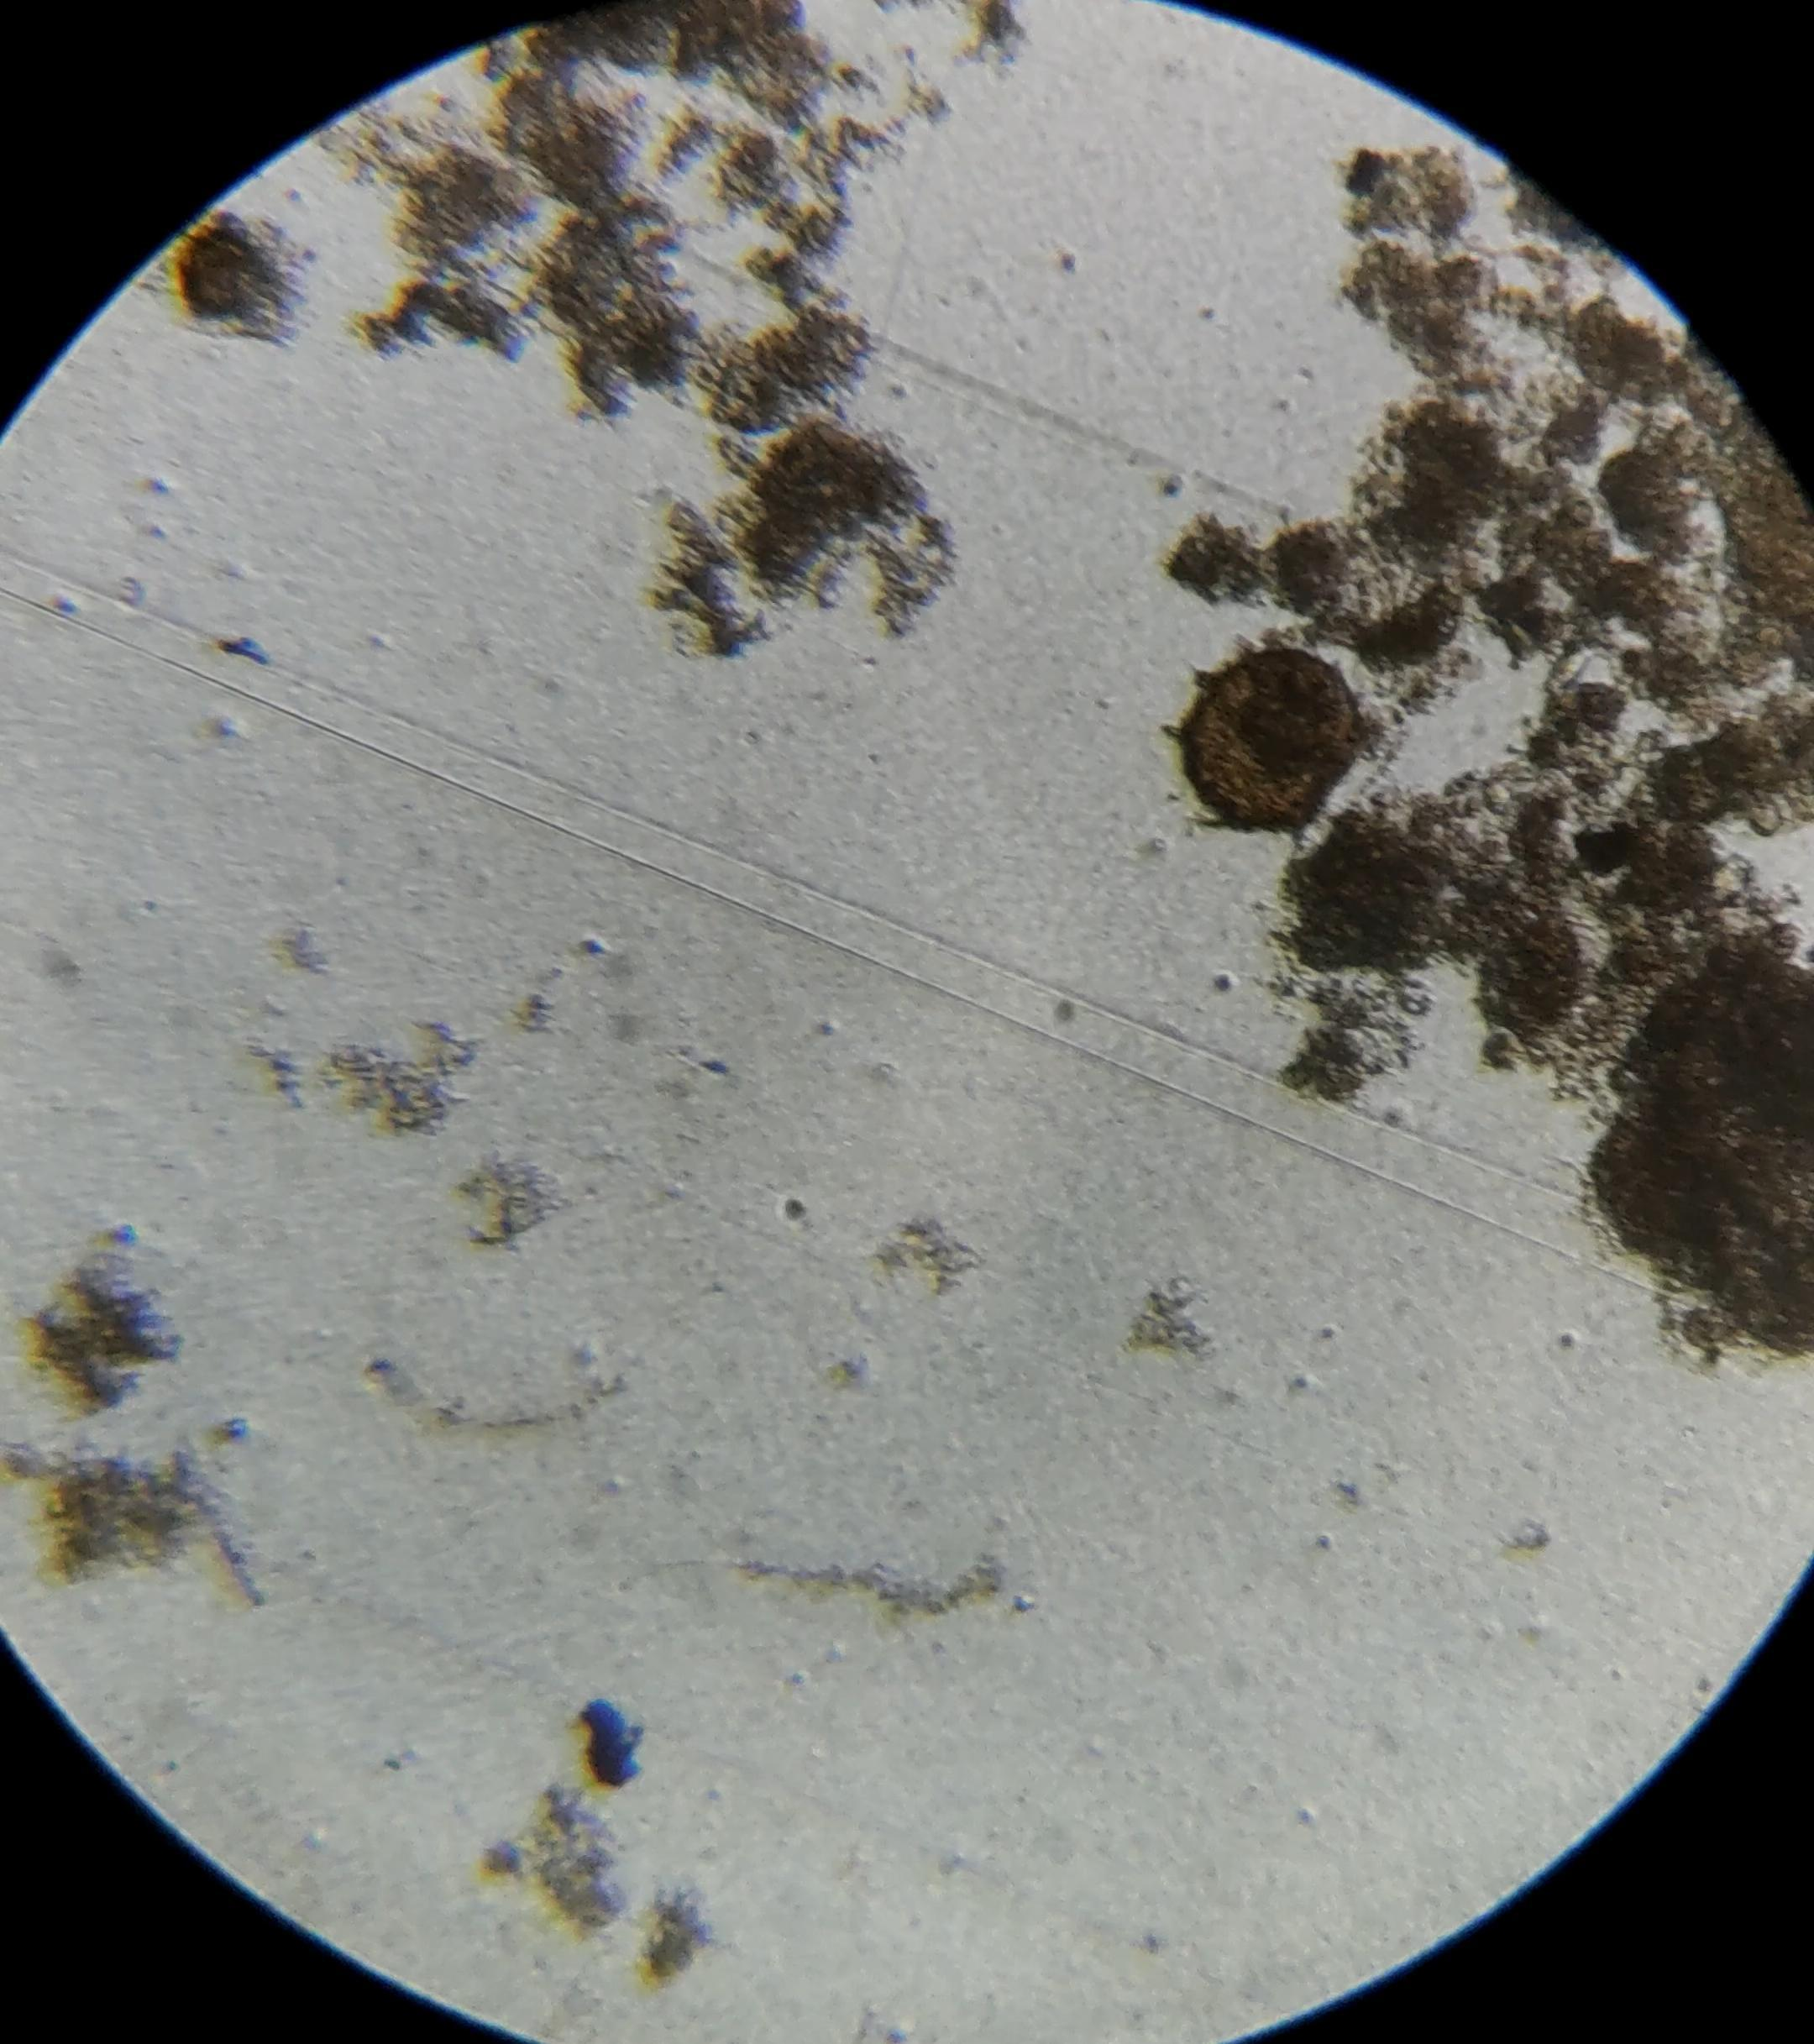Arcella: (1185, 650, 1359, 828)
